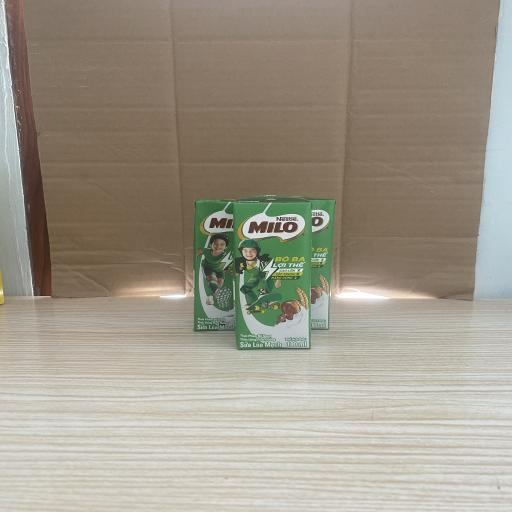milo: (234, 195, 312, 349), (194, 198, 236, 331), (301, 196, 335, 330)
